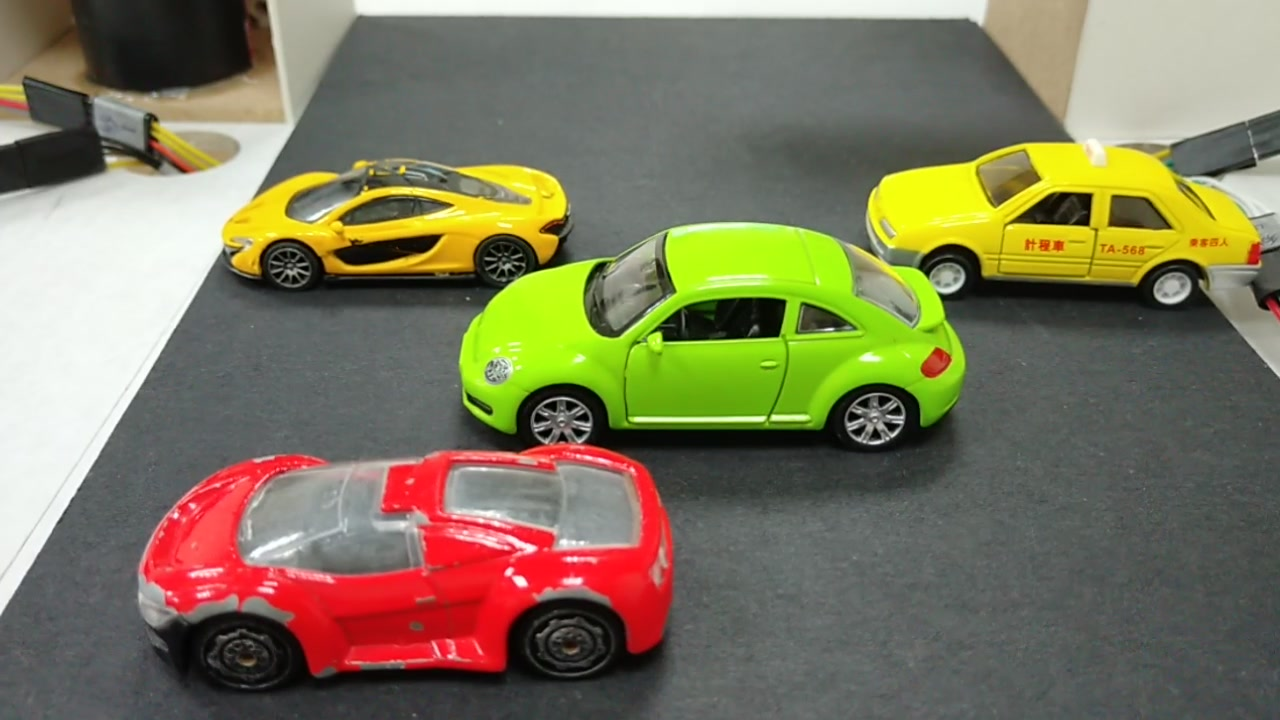car: (146, 459, 676, 674), (463, 243, 965, 455), (862, 155, 1258, 319), (218, 168, 579, 290)
